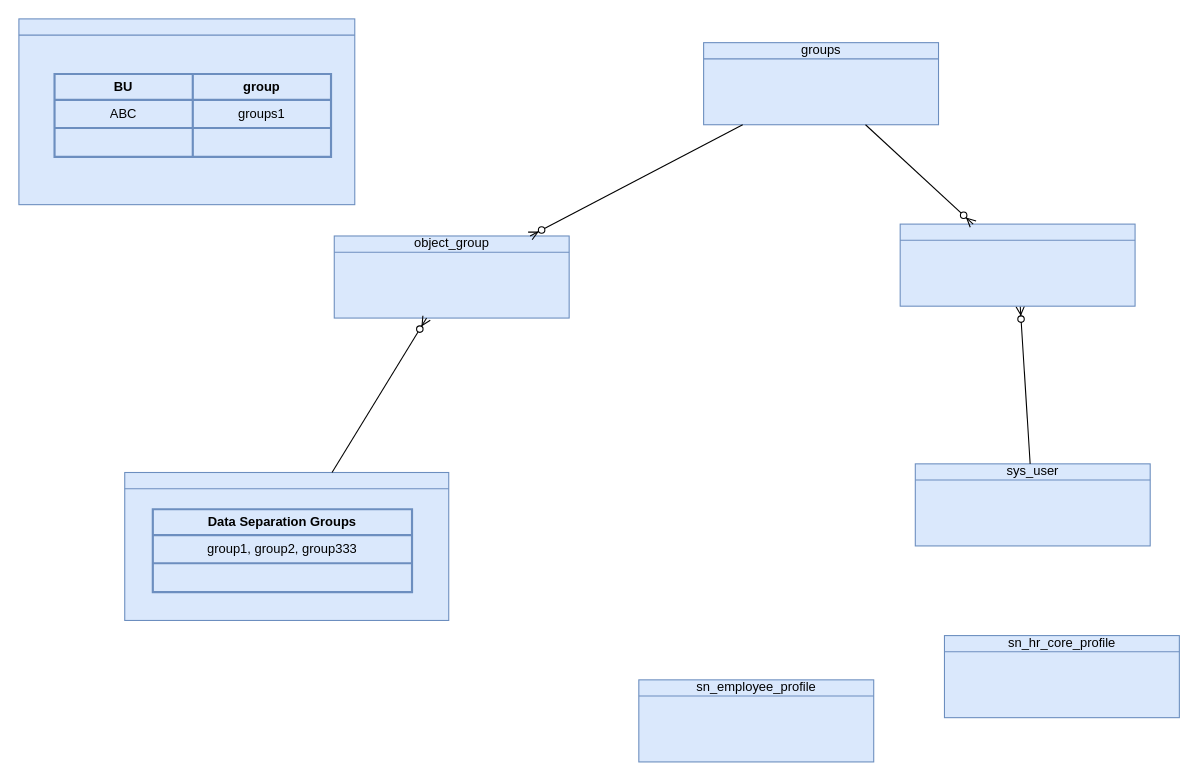
This 1199x781 diagram has some shape labels left out. The shapes that lost their labels are listed below. From the top down, each one's box as (x1, y1, x2, y2) in pixels, then its label:
(18, 18, 355, 205): mapping
(899, 223, 1135, 306): user_groups
(124, 471, 449, 620): pm_project
